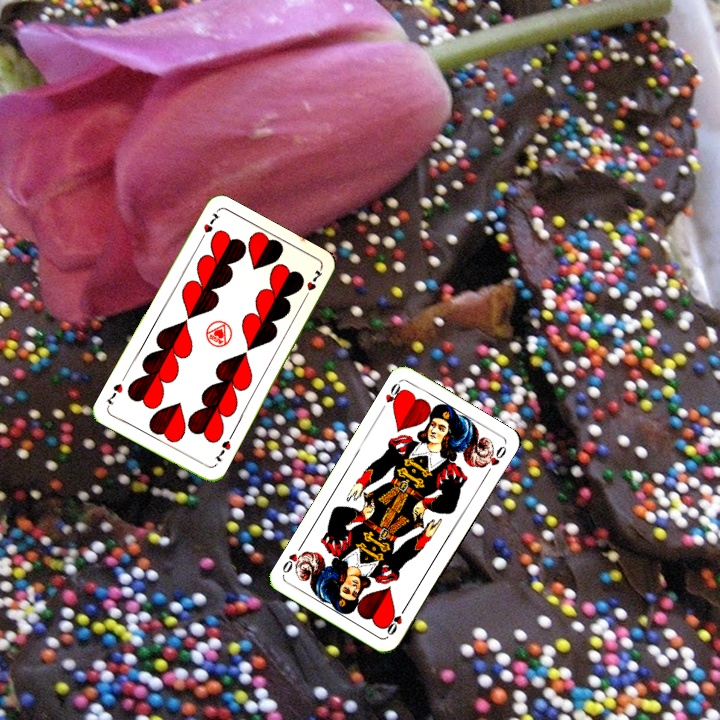H7: (195, 208, 223, 245), (211, 436, 233, 464)
HO: (377, 378, 407, 415), (382, 602, 409, 638)
